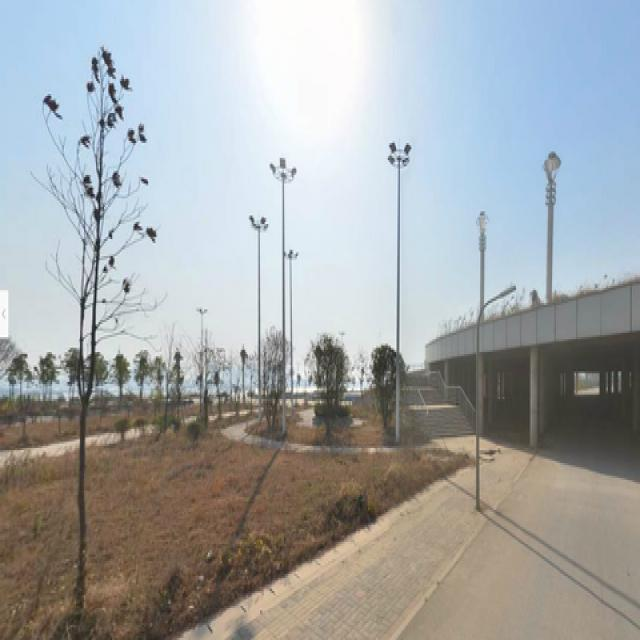magn: (48, 58, 156, 595)
